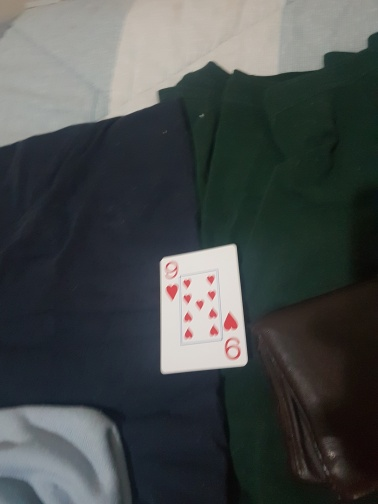nine: (158, 243, 249, 375)
